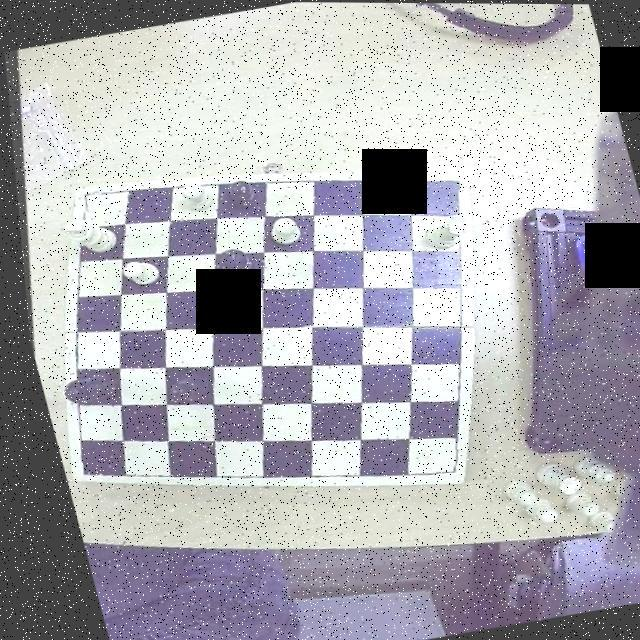chess-table-corners: (418, 446, 460, 484), (427, 170, 467, 208), (58, 451, 98, 486), (64, 182, 104, 215)
